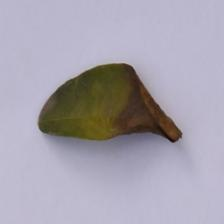black spot: (112, 70, 184, 157)
